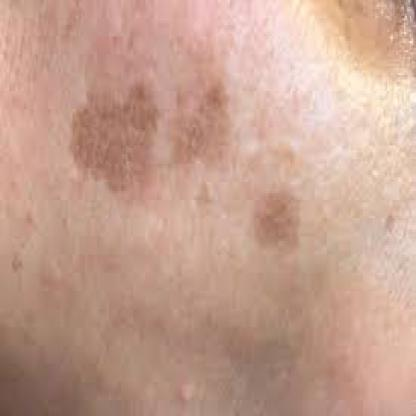darkspot: (59, 59, 312, 257)
